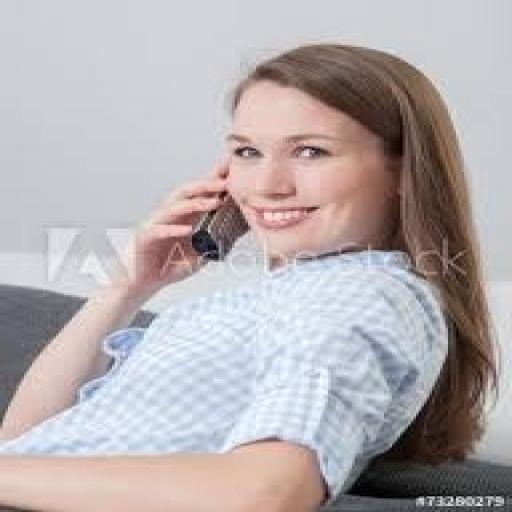calling: (0, 41, 499, 510)
